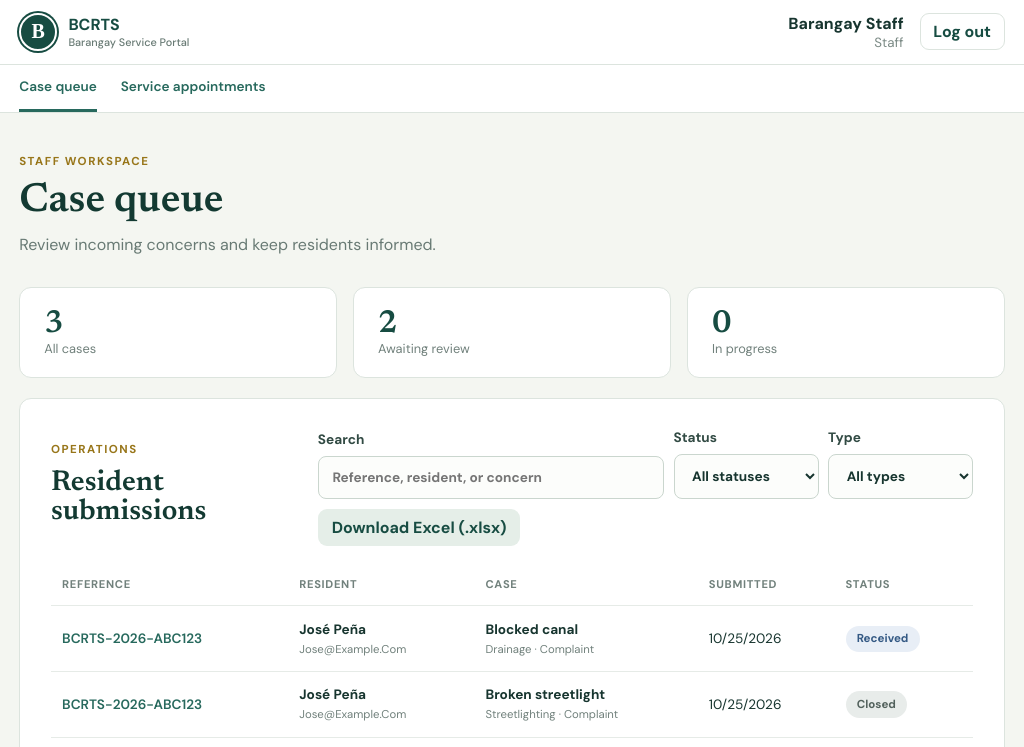
staff Excel download › shows a recoverable error and allows a successful retry
Expected: the text "Broken streetlight" is shown, [486,686,605,703]
Click the button "Download Excel (.xlsx)": (419, 528) [318,509,520,546]
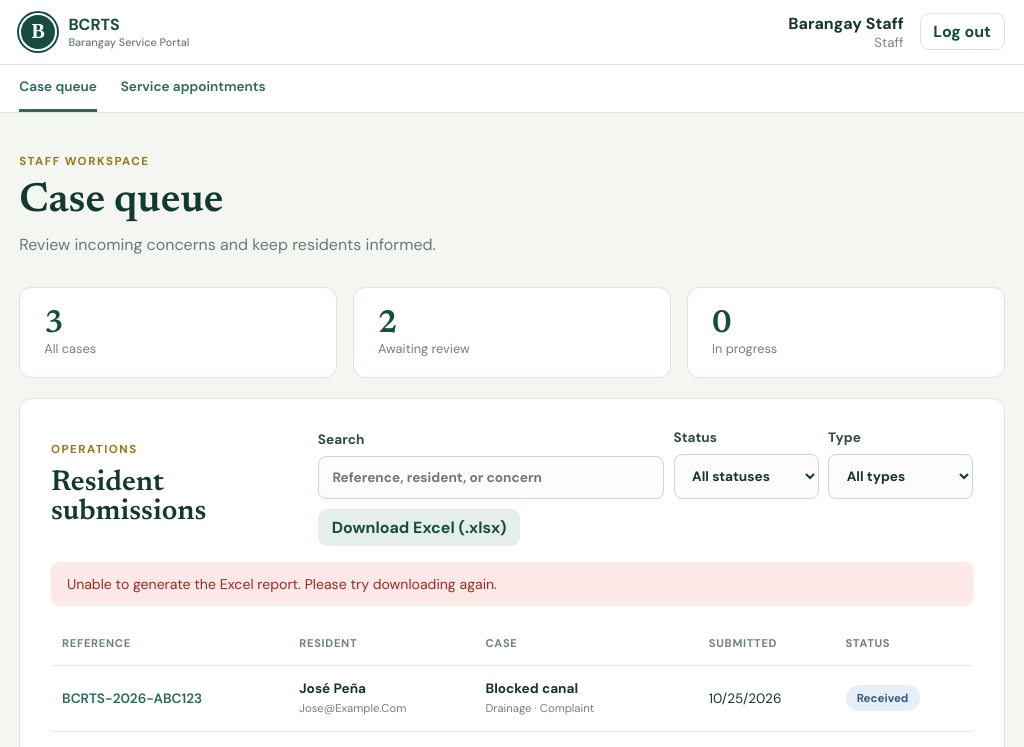
Now the message reads "Unable to generate the Excel report. Please try downloading again.", box [67,575,497,593]
Click the button "Download Excel (.xlsx)": (419, 528) [318,509,520,546]
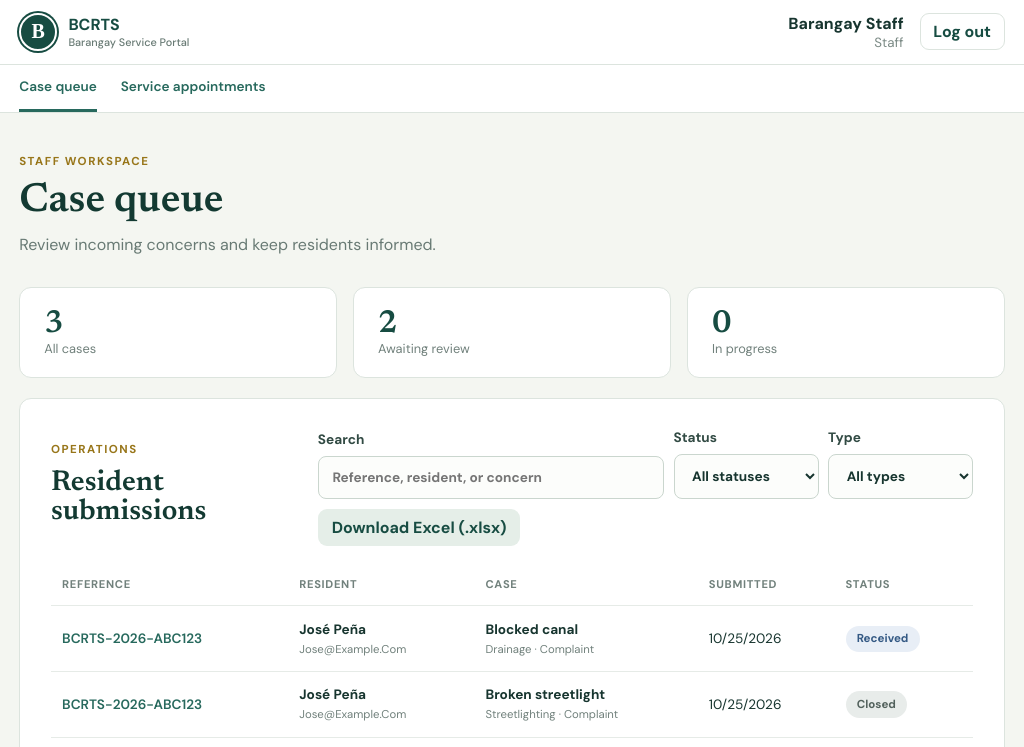
Now the message "Unable to generate the Excel report. Please try downloading again." is gone
